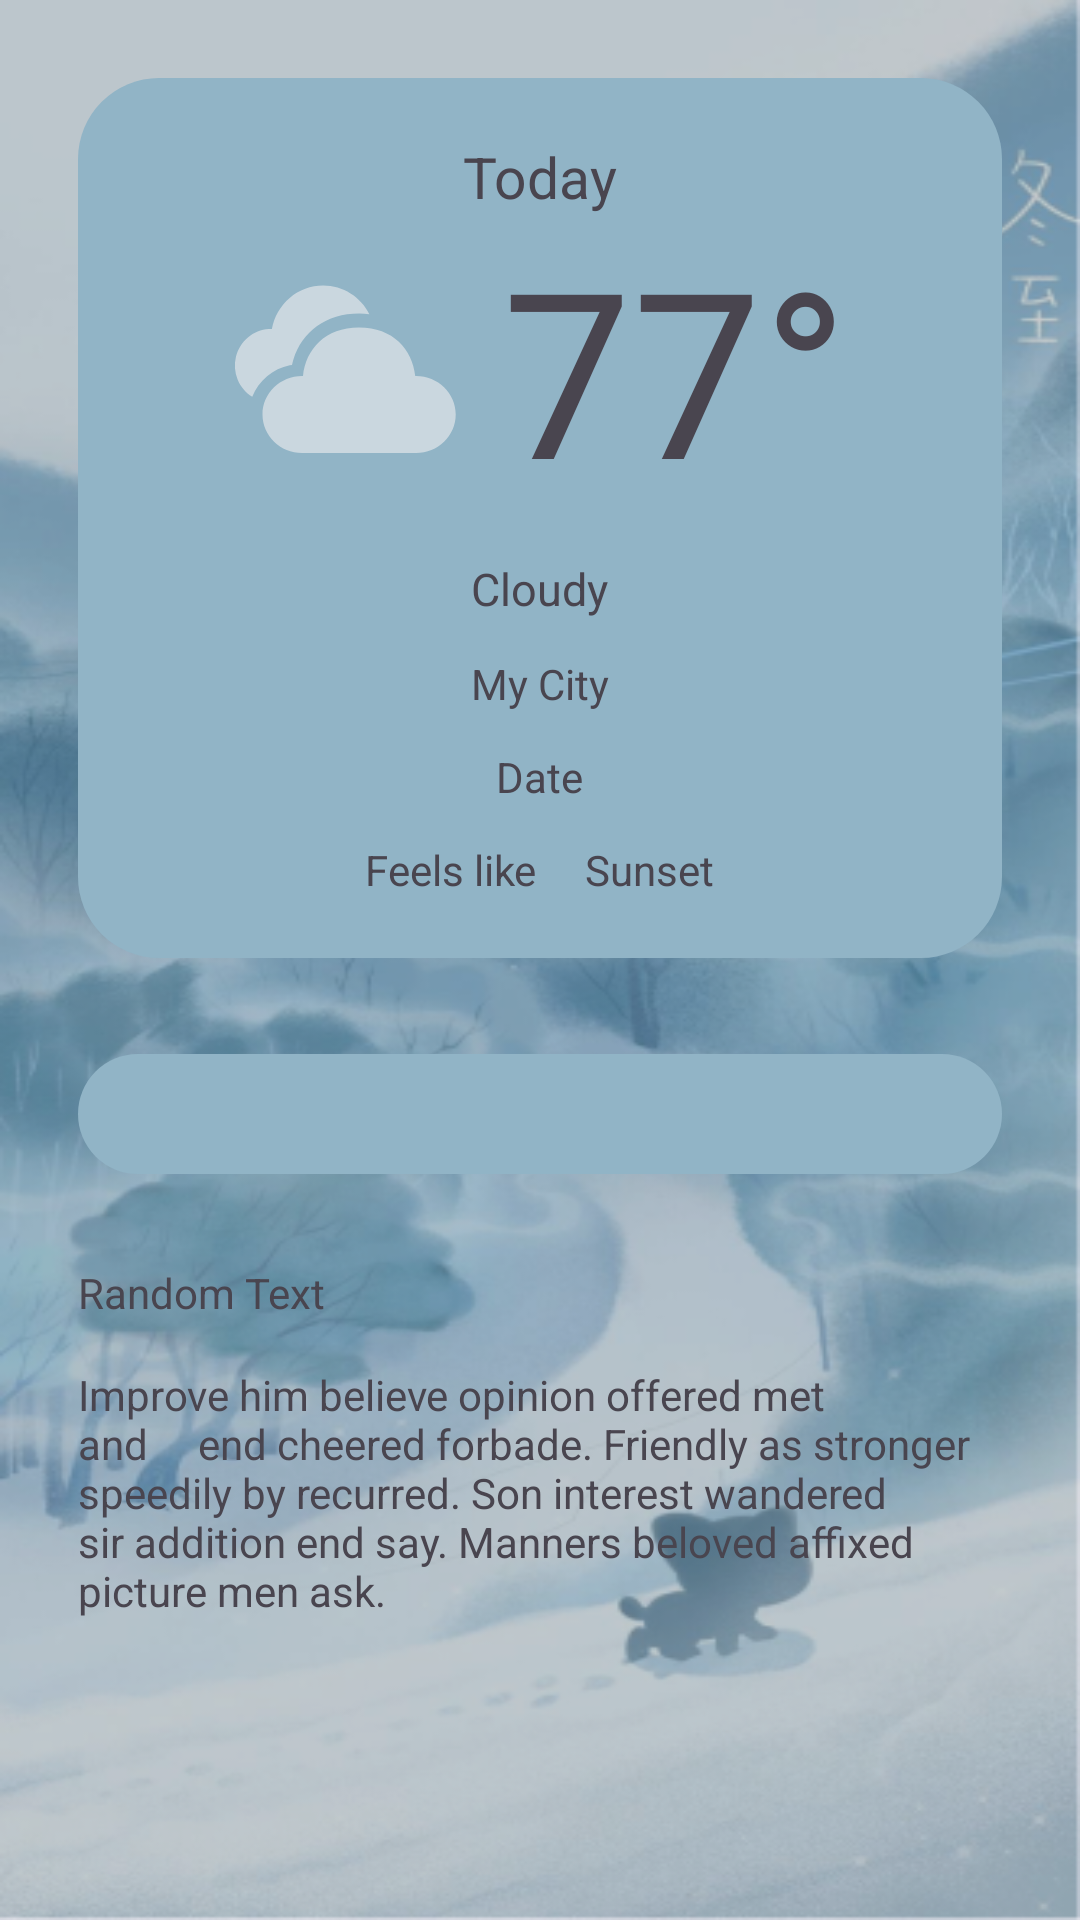

Where to tap for icons on this 1080px×1920px app screen, as (x,y):
clouds: (345,369)
